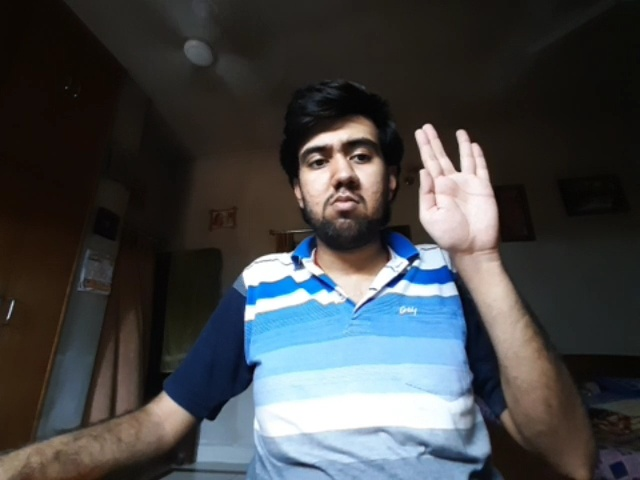LiveLong: (414, 122, 498, 250)
